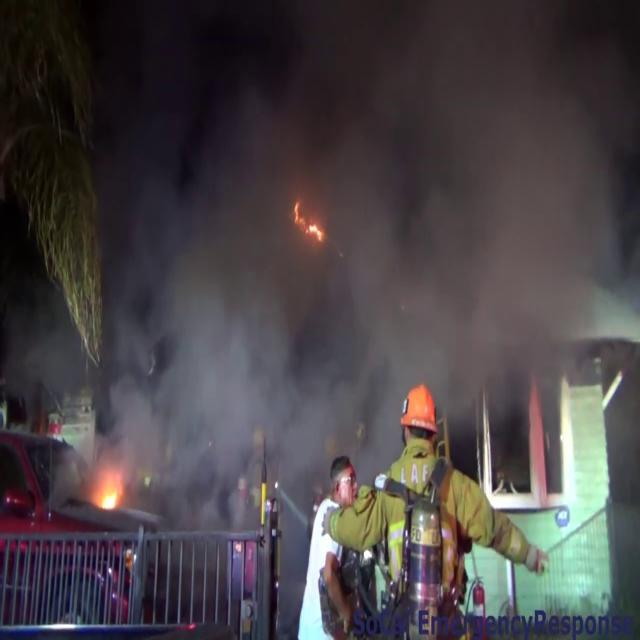Fire: (90, 458, 128, 518), (287, 188, 324, 248)
Smoke: (62, 0, 638, 410)
